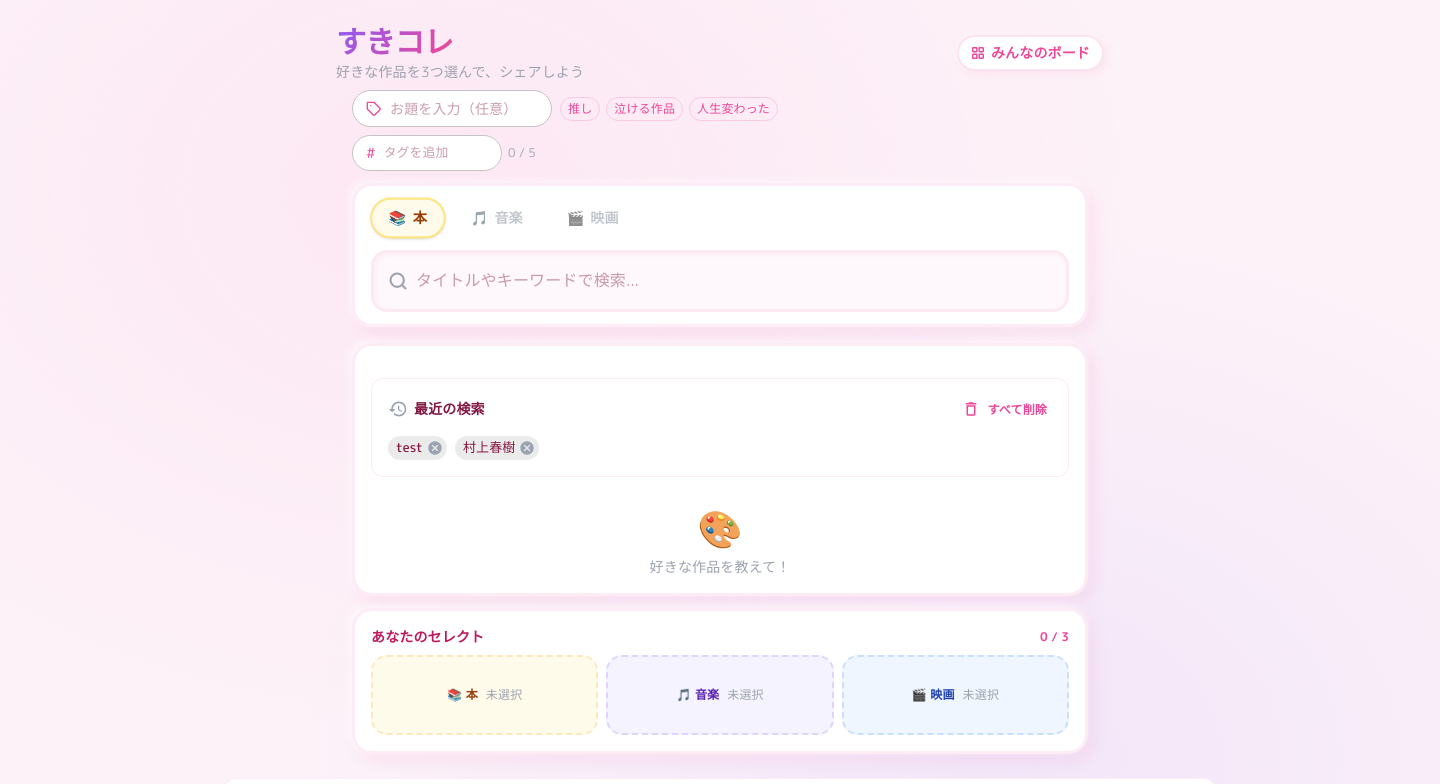
Test: SearchPage integration (no mocked hooks) › selects a work and shows it in the selection area
Type "テスト" into the field with placeholder "タイトルやキーワードで検索...". click: (741, 280)
box: [416,252,1066,308]
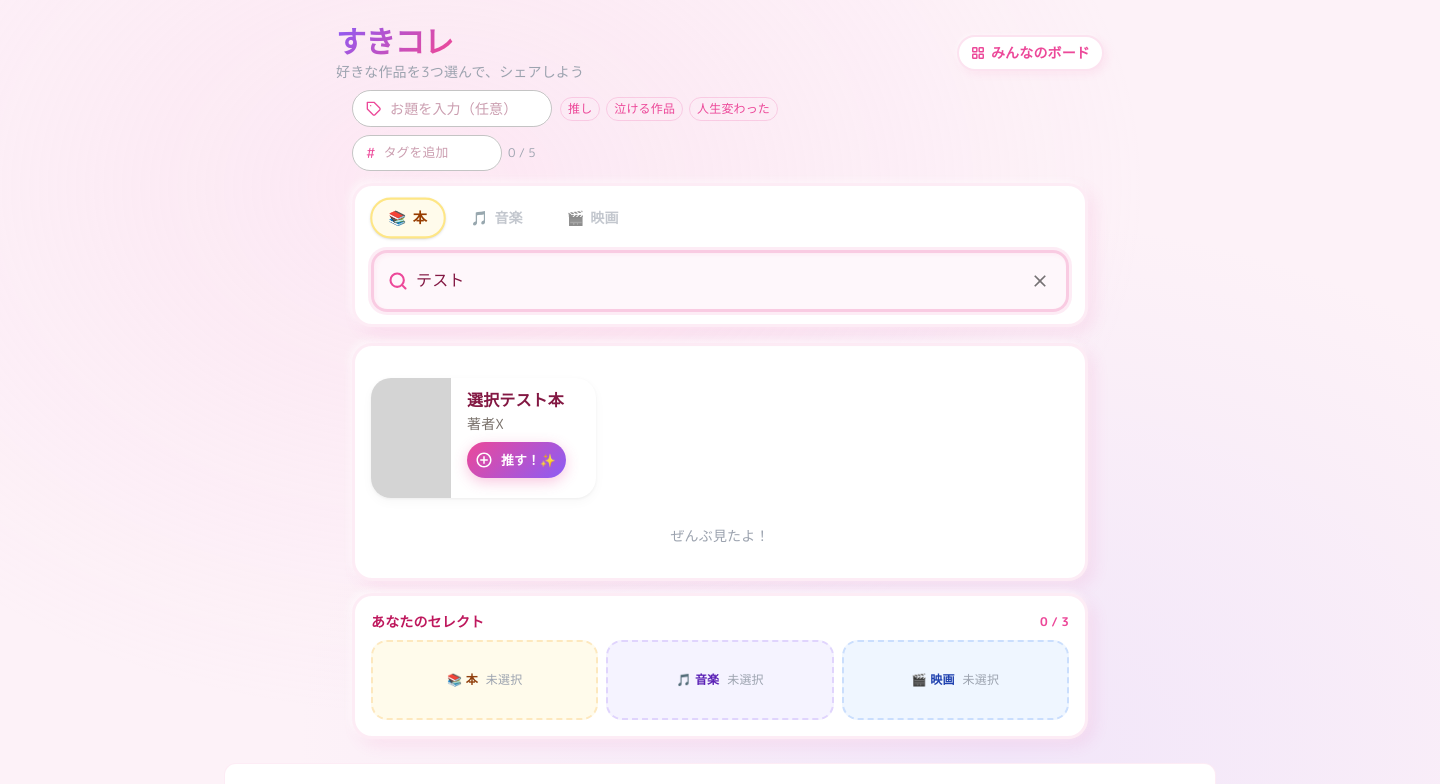
Expected: the heading "選択テスト本" is shown, [467,390,580,410]
// Click the select button
Click the button "推す！✨". click: (516, 460)
box: [467,442,566,478]
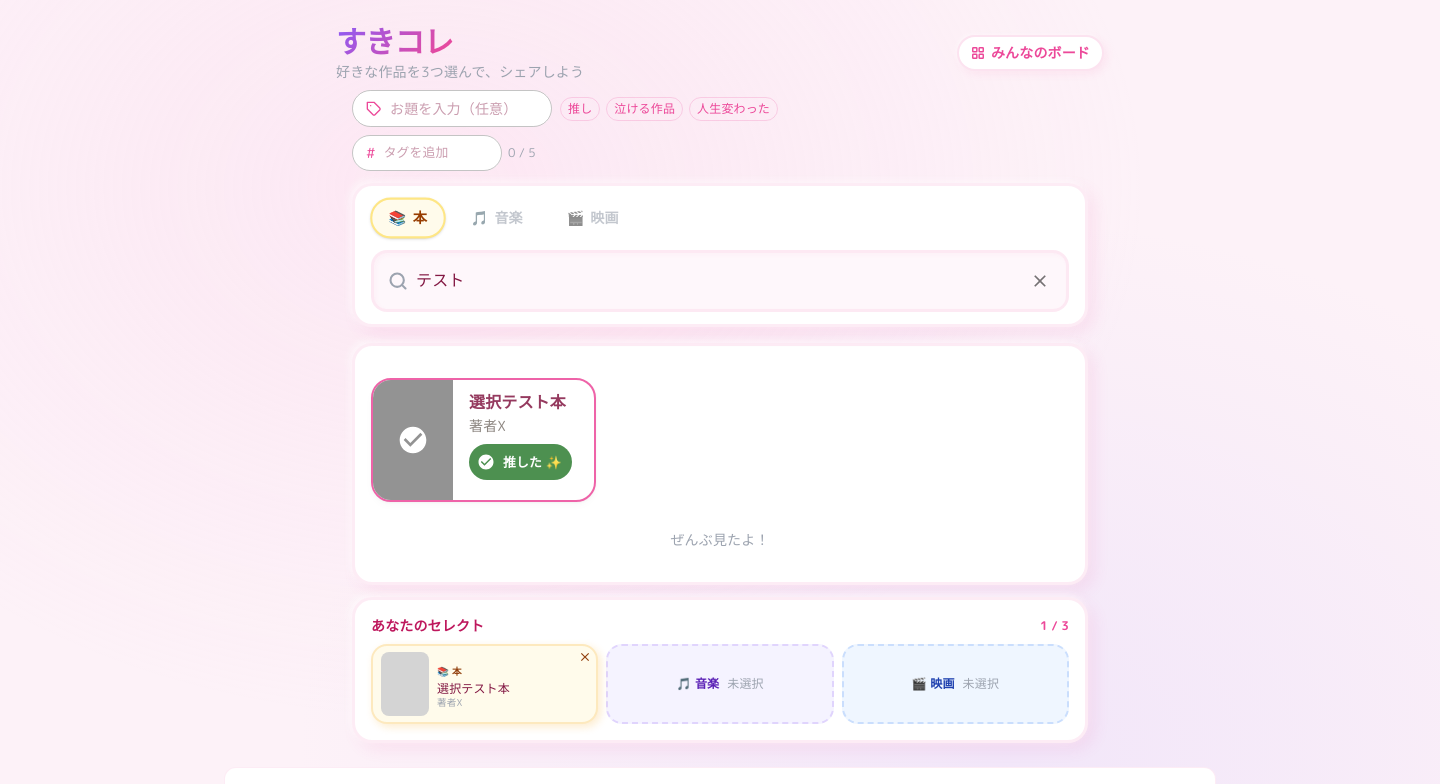
Expected: the button "推した ✨" is shown, [469,444,572,480]
Expected: the element with test id "selection-area-wrapper" shows "選択テスト本", [437,680,510,697]
